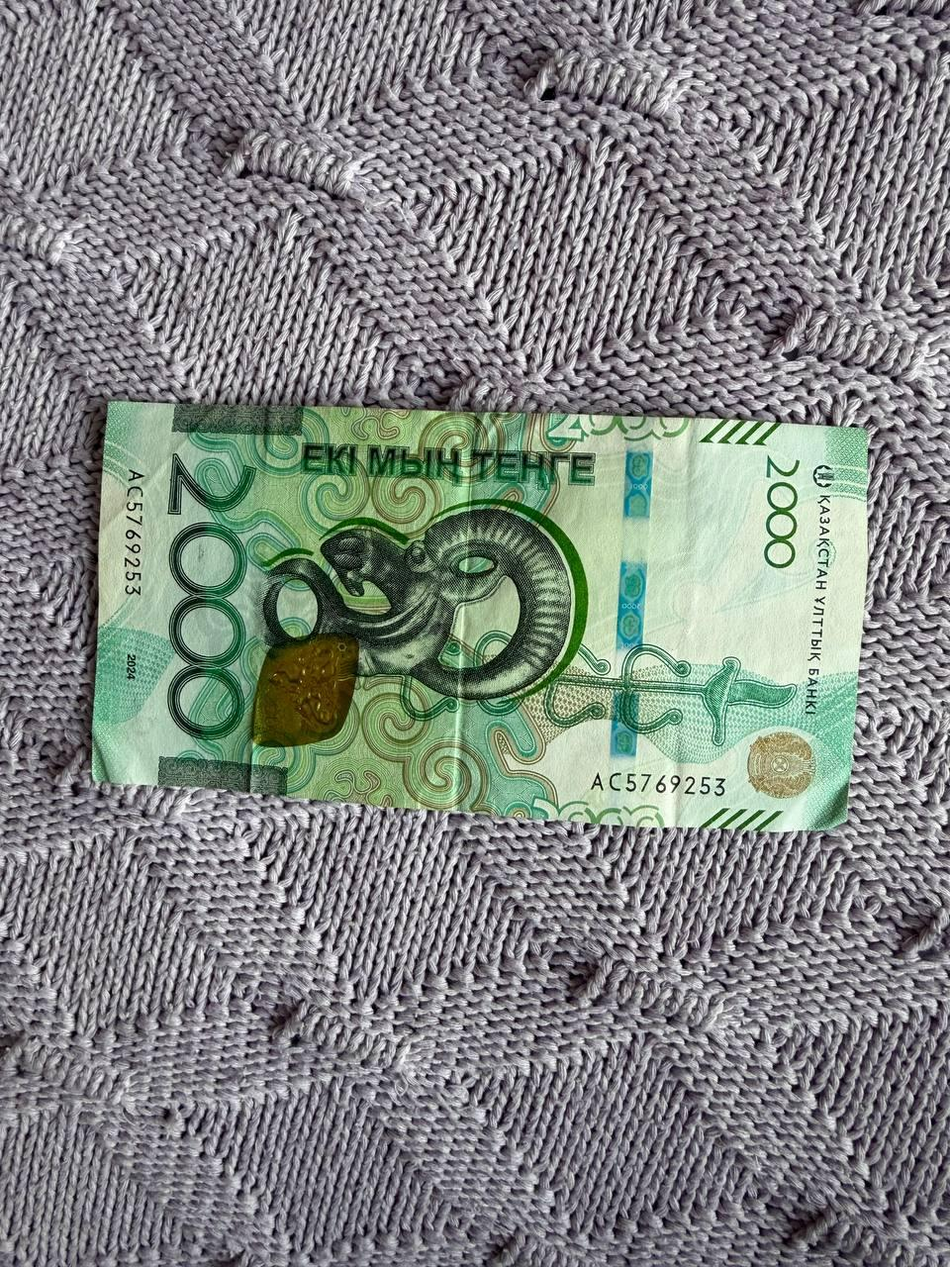cash_stack: (91, 390, 848, 833)
